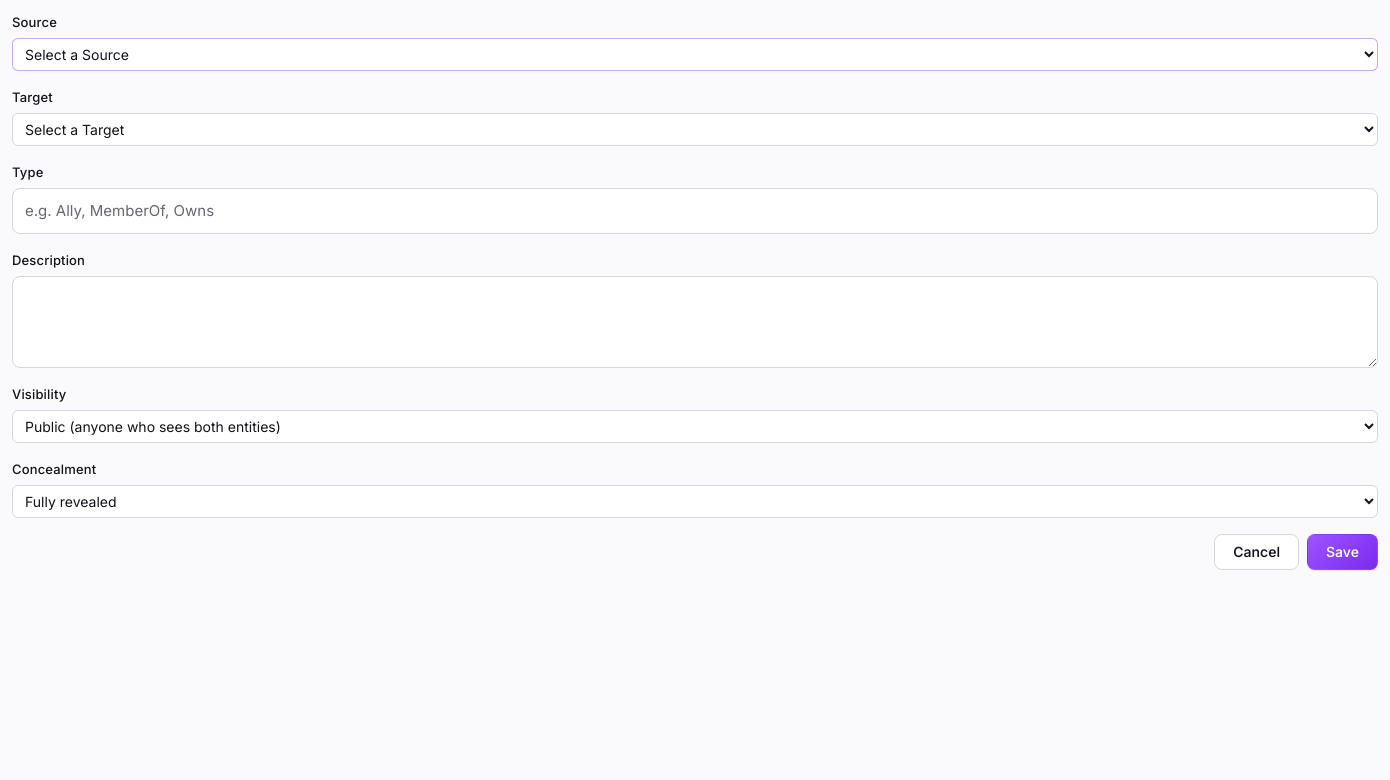
Test case: RelationshipFormWindow › rejects source and target being the same entity
Select "Lucien" in the dropdown labelled "Source". click: (695, 55)
box: [12,38,1378,71]
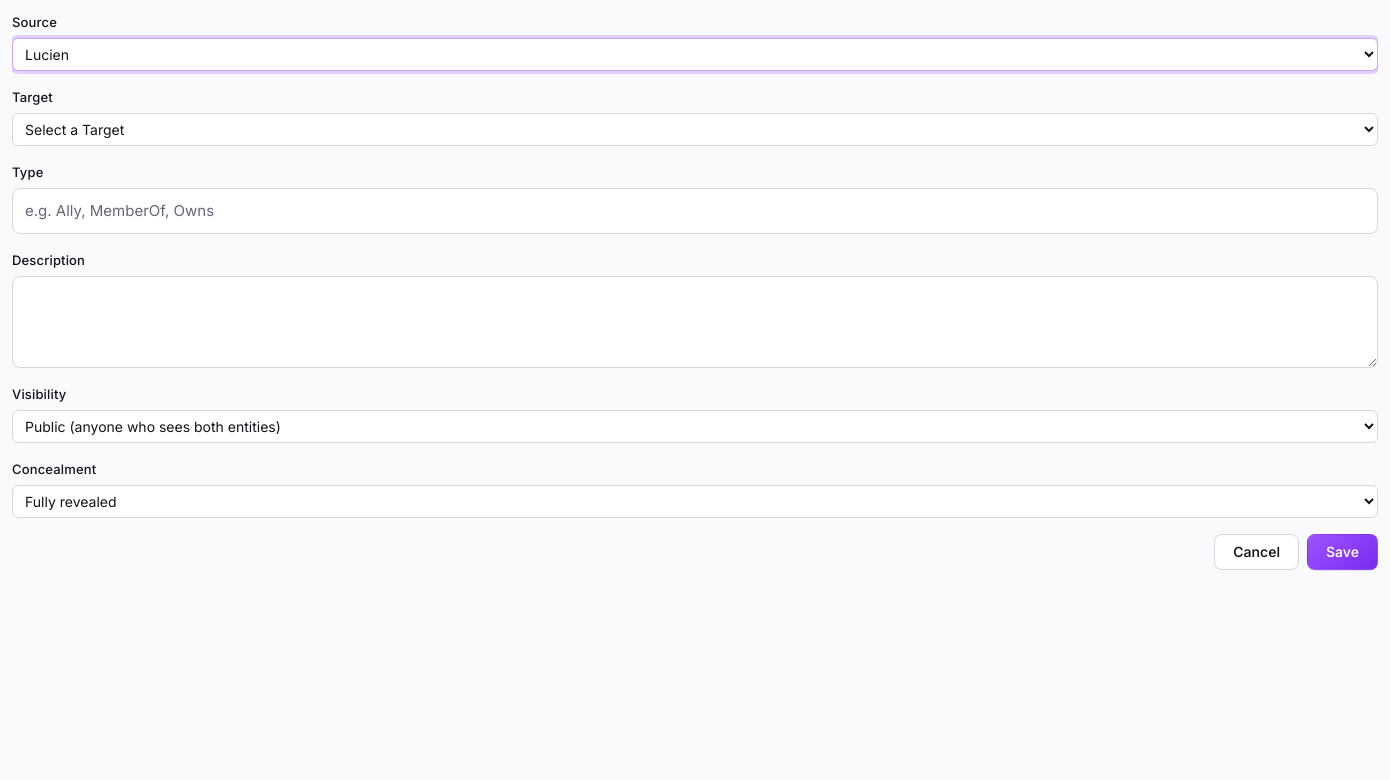
Select "Lucien" in the dropdown labelled "Target". click: (695, 130)
box: [12,113,1378,146]
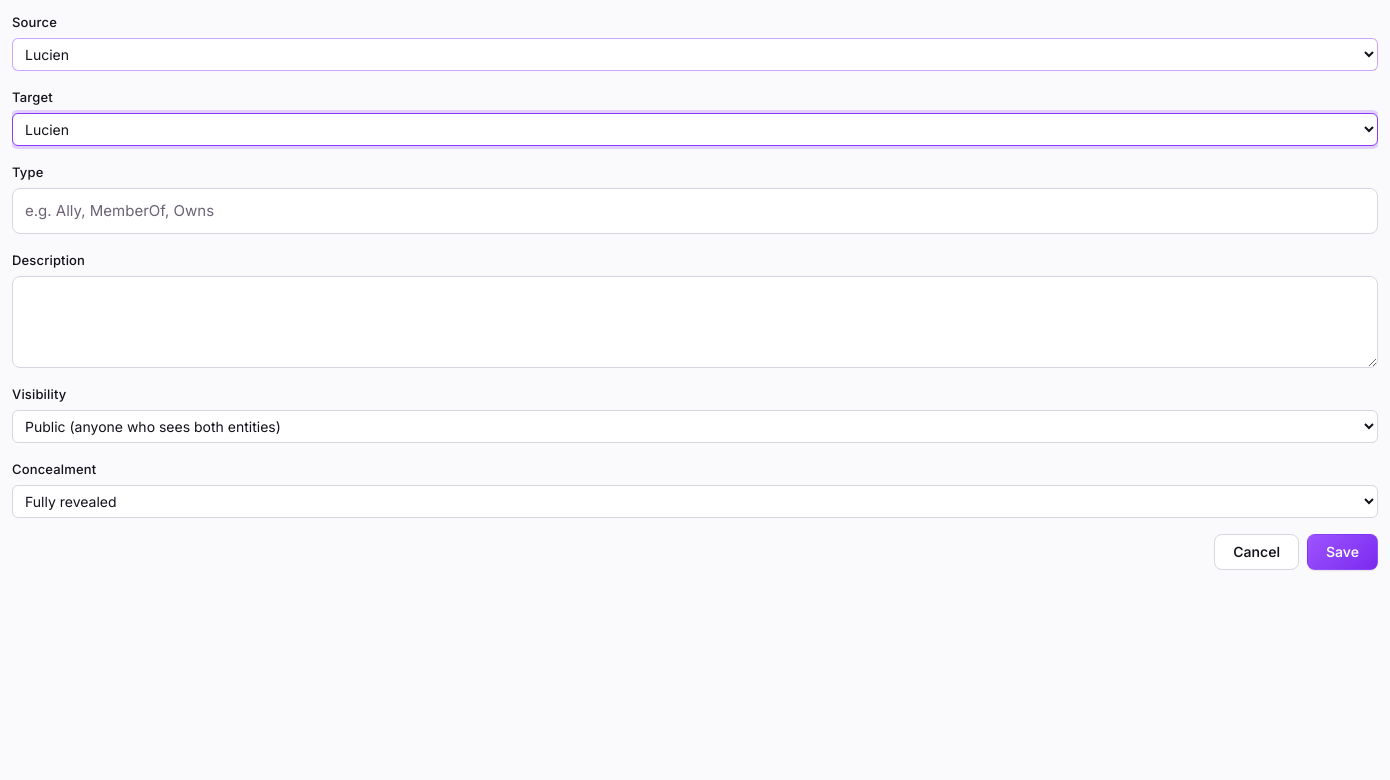
Type "Ally" into the field labelled "Type". click: (695, 211)
box: [12,188,1378,234]
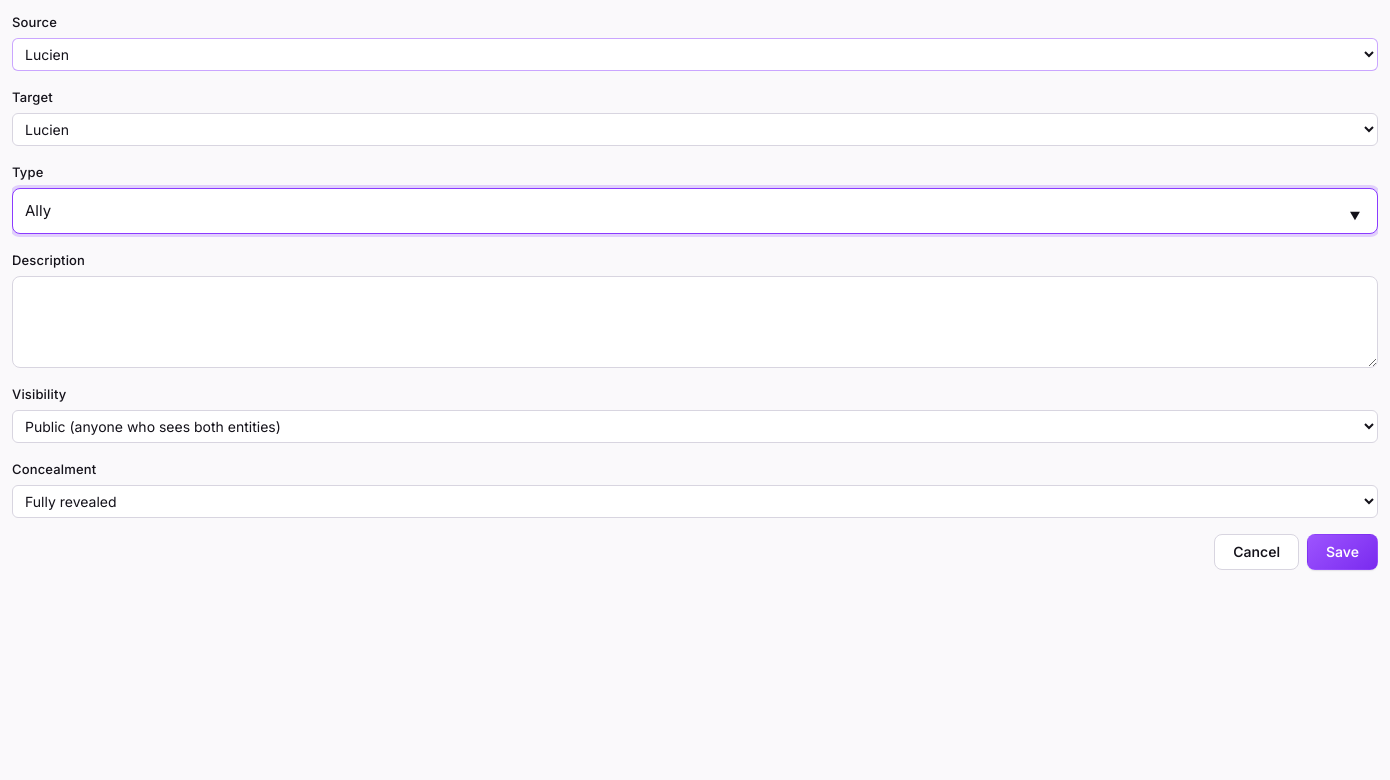
Click the button "Save". click: (1342, 552)
box: [1307,534,1378,570]
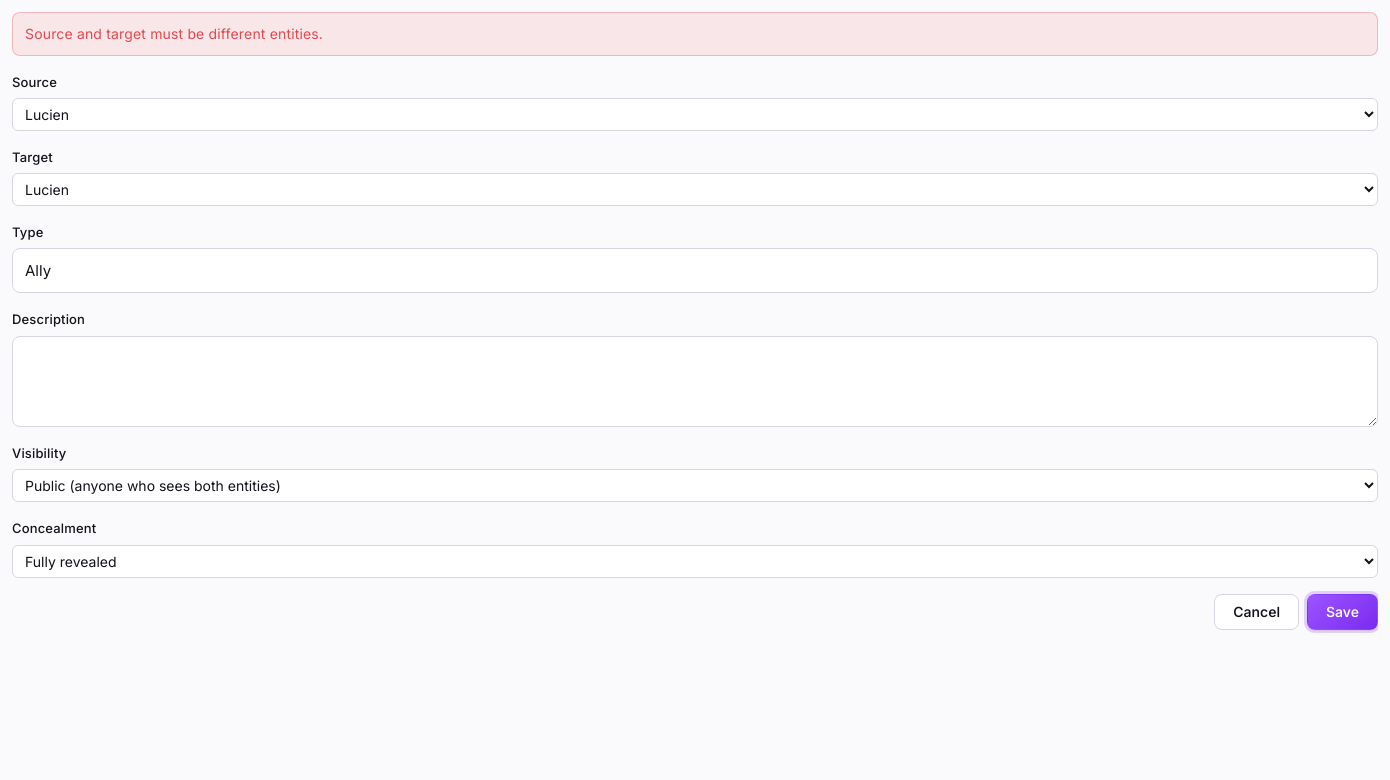
expect the text "Source and target must be different entities." is shown: met, box [12,12,1378,56]
